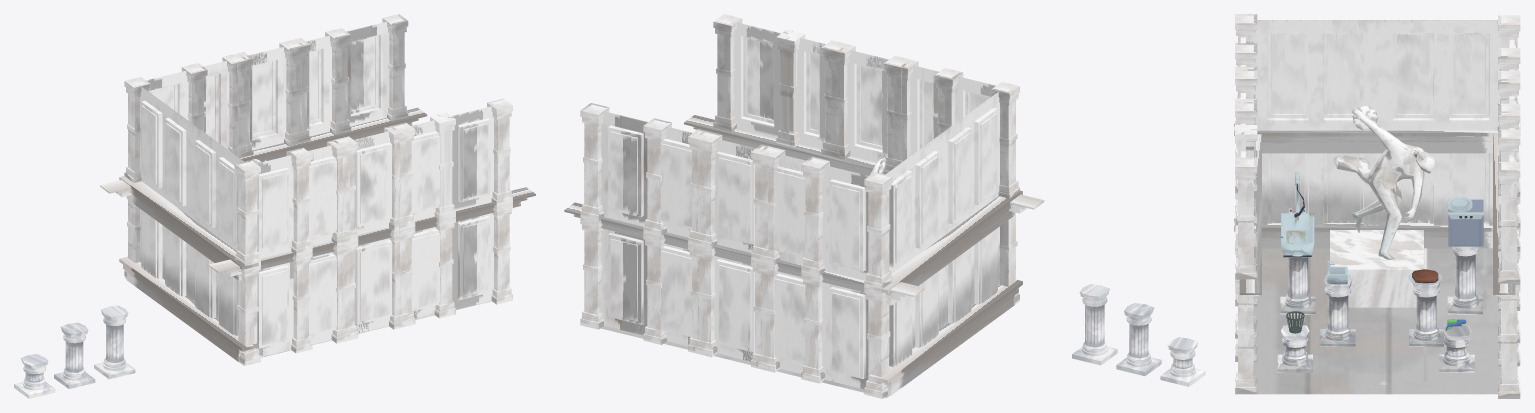
The model's file is monde_5.glb.
3 renders of one model, left to right at view 1: azimuth 30°, elevation 25°; view 2: azimuth 150°, elevation 25°; view 3: azimuth 270°, elevation 25°, orthographic. The views are drawn at different scales.
Parts seen in each view (by area): view 1: building.003, Cube, Cube.004, petitpillier; view 2: building.003, Cube, Cube.004, petitpillier; view 3: building.003, Cube.017, homme/fish.003, Cube.020, Cube.018, LaveVaisselle, Baignoire, Cube.003, Cube.019, Pilier2, Pilier1, Lavabo (+3 smaller).
Part boxes in pixels (left/top/right/bottom): building.003: left=100, top=14, right=535, bottom=365; Cube: left=94, top=305, right=135, bottom=379; Cube.004: left=54, top=322, right=95, bottom=388; petitpillier: left=14, top=353, right=55, bottom=398; building.003: left=564, top=14, right=1044, bottom=398; Cube: left=1072, top=284, right=1117, bottom=365; Cube.004: left=1116, top=303, right=1161, bottom=375; petitpillier: left=1160, top=337, right=1205, bottom=386; building.003: left=1234, top=14, right=1520, bottom=398; Cube.017: left=1330, top=230, right=1423, bottom=307; homme/fish.003: left=1332, top=108, right=1434, bottom=259; Cube.020: left=1447, top=246, right=1482, bottom=314; Cube.018: left=1320, top=275, right=1355, bottom=346; LaveVaisselle: left=1447, top=197, right=1483, bottom=246; Baignoire: left=1281, top=172, right=1314, bottom=257; Cube.003: left=1409, top=281, right=1443, bottom=346; Cube.019: left=1280, top=255, right=1315, bottom=314; Pilier2: left=1439, top=325, right=1474, bottom=372; Pilier1: left=1277, top=325, right=1312, bottom=372; Lavabo: left=1327, top=260, right=1347, bottom=309.
Bounding box in the file's own units: 44.72 × 17.44 × 19.6.
Materials: 18 (18 with a texture image).
